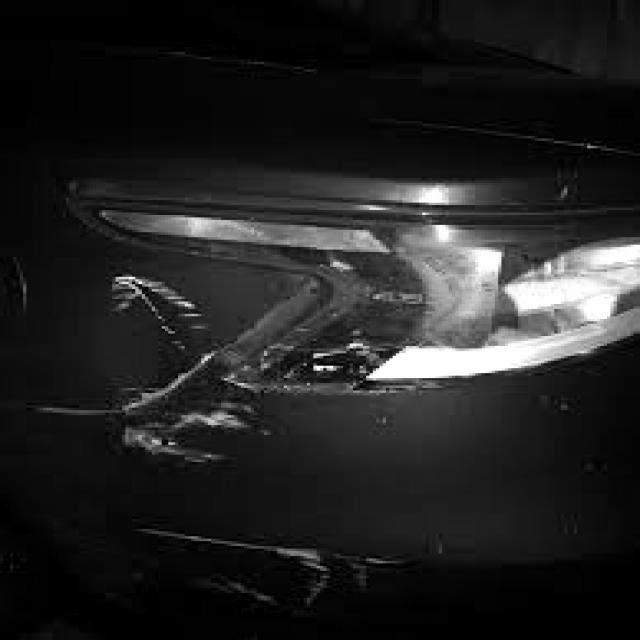Taillight-Damage: (214, 205, 636, 395)
